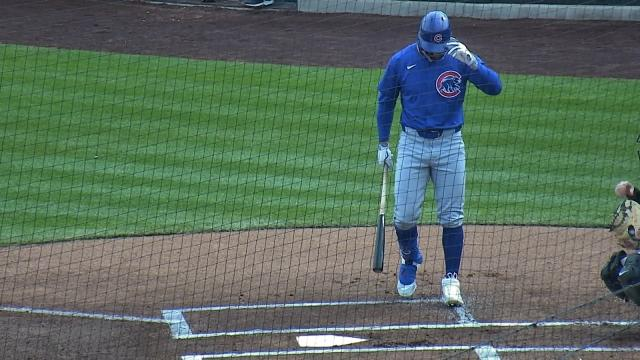bat: (371, 164, 394, 274)
